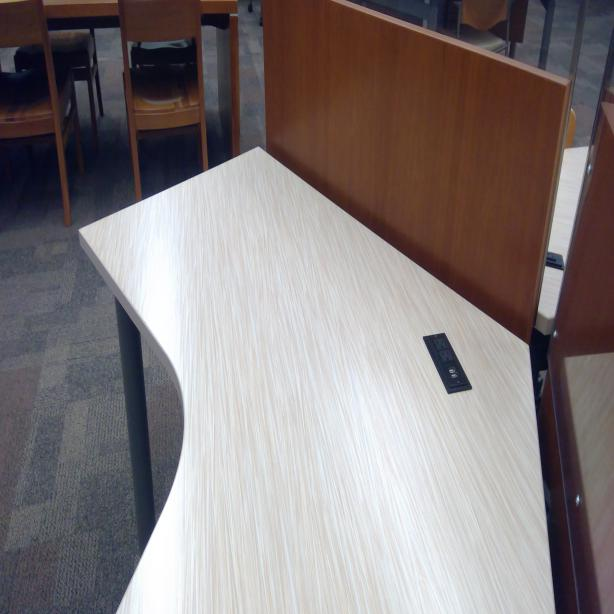typeb: (440, 349, 456, 364), (434, 335, 447, 350)
